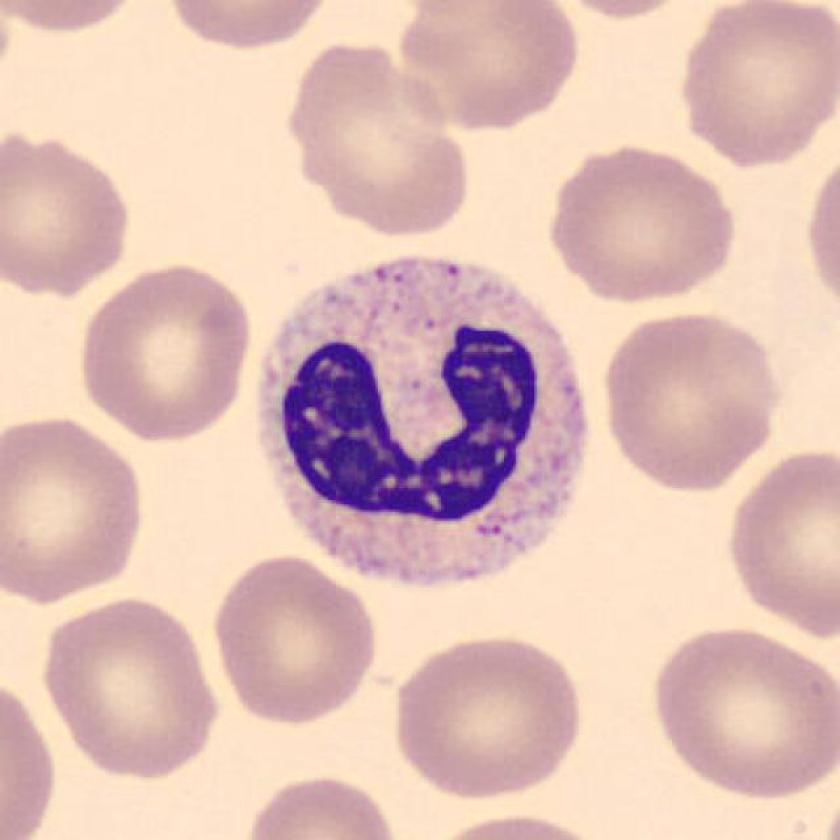neutrophil: (263, 261, 587, 588)
